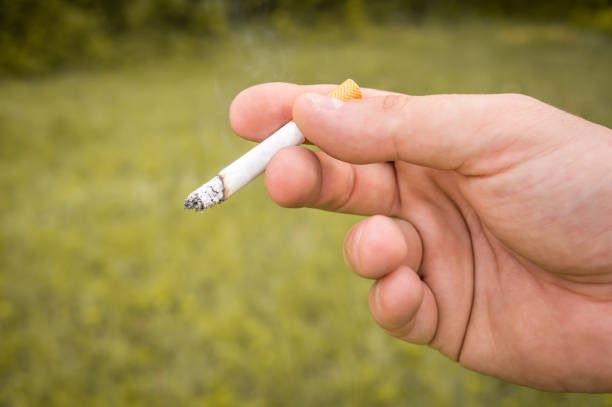cigarette: (182, 76, 364, 213)
